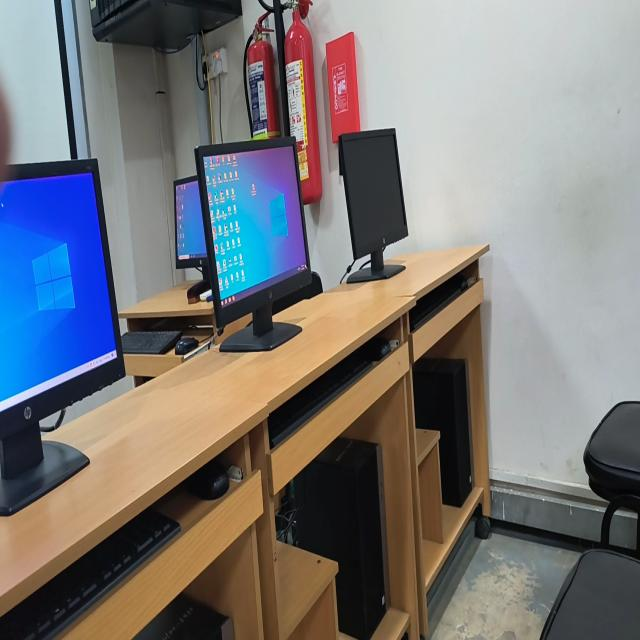Chair: (583, 401, 640, 559), (540, 549, 640, 639)
Cpu: (294, 439, 388, 639), (413, 359, 473, 507), (134, 594, 234, 639)
Fire Extinguisher: (284, 0, 322, 204), (247, 39, 279, 138)
Keyboard: (0, 510, 180, 639), (269, 336, 399, 449), (409, 273, 477, 332), (121, 331, 181, 354)
Monitor: (0, 159, 126, 514), (195, 139, 312, 353), (339, 129, 408, 283), (174, 177, 206, 271)
Mouse: (185, 459, 229, 500), (365, 336, 399, 362), (175, 337, 199, 355)
